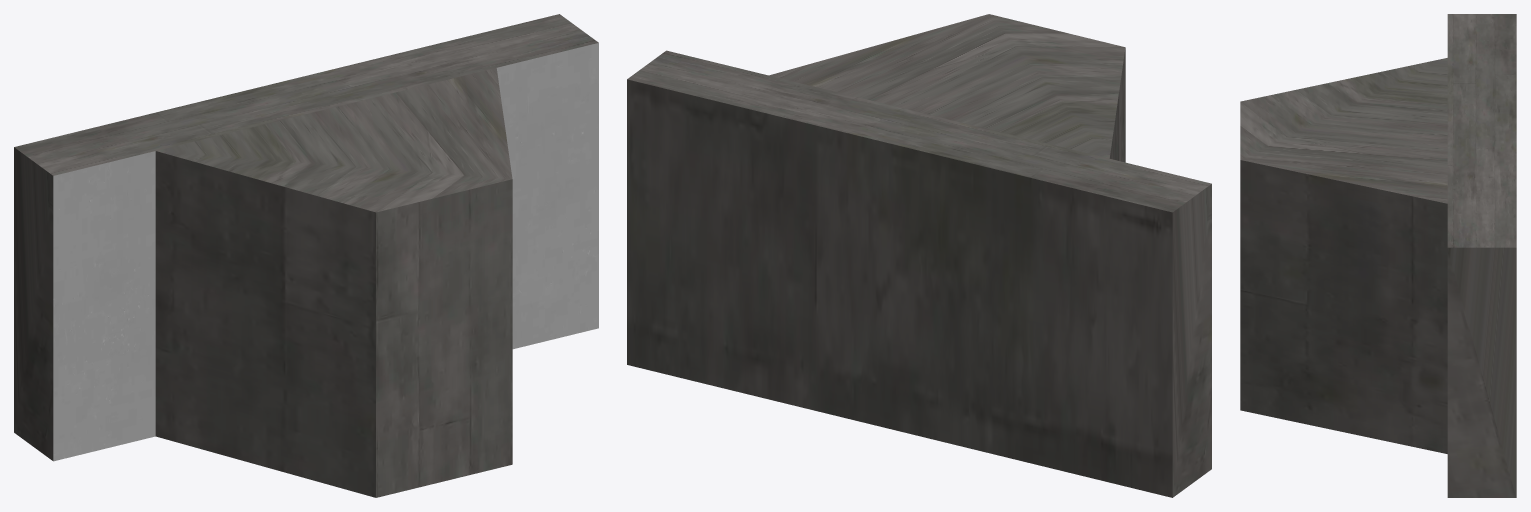
File: beveled_wall_50cm.glb
The picture shows the model from 3 angles, left to right: view 1: azimuth 30°, elevation 25°; view 2: azimuth 150°, elevation 25°; view 3: azimuth 270°, elevation 25°; orthographic projection. The views are drawn at different scales.
Visible parts, largest first — view 1: beveled.wall.50cm; view 2: beveled.wall.50cm; view 3: beveled.wall.50cm.
Boxes of the visible parts, <box> form: beveled.wall.50cm: <box>14,14,598,497</box>; beveled.wall.50cm: <box>627,14,1211,497</box>; beveled.wall.50cm: <box>1240,14,1516,497</box>.
Bounding box in the file's own units: 1 × 0.5 × 0.5.
Materials: 2 (2 with a texture image).
